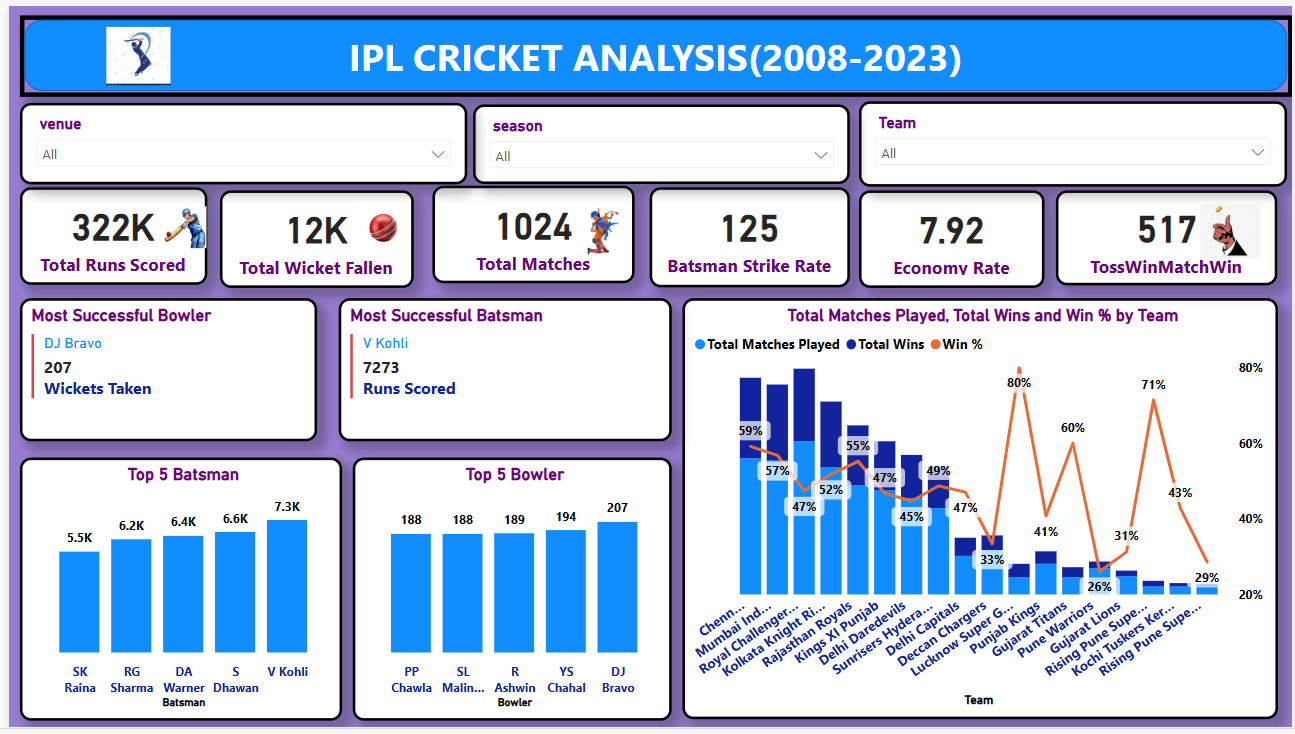

Layout of this report page (visuals, bound fields, positions):
{"tool":"powerbi","page":{"name":"IPL DASHBOARD","canvas":[1280,720],"ordinal":0},"visuals":[{"type":"card","fields":{"Values":["Measure.Total Runs Scored"]},"box":[11,181.1,186.6,97.4],"z":0},{"type":"card","fields":{"Values":["Measure.Total Wicket Fallen"]},"box":[210.3,183.7,193,97.2],"z":1000},{"type":"card","fields":{"Values":["Measure.Total Matches"]},"box":[422.6,179.8,201.7,97.4],"z":2000},{"type":"columnChart","title":"Top 5 Batsman","fields":{"Category":["match_data.striker"],"Y":["Sum(match_data.runs_off_bat)"]},"box":[11,450.1,321.1,262.1],"z":3000},{"type":"columnChart","title":"Top 5 Bowler","fields":{"Category":["match_data.bowler"],"Y":["Measure.Total Wicket Fallen"]},"box":[343.1,450.1,318.4,262.1],"z":4000},{"type":"card","fields":{"Values":["Measure.Strike Rate"]},"box":[638.9,181,199.7,99.8],"z":5000},{"type":"card","fields":{"Values":["Measure.Economy Rate"]},"box":[847.9,183.7,185,97.2],"z":6000},{"type":"lineStackedColumnComboChart","fields":{"Category":["Teams.Team"],"Y":["Measure.Total Matches Played","Measure.Total Wins"],"Y2":["Measure.Win %"]},"box":[671,290.9,594.2,419.9],"z":7000},{"type":"multiRowCard","title":"Most Successful Batsman","fields":{"Values":["match_data.striker","Sum(match_data.runs_off_bat)"]},"box":[329.3,290.9,332.1,142.7],"z":8000},{"type":"multiRowCard","title":"Most Successful Bowler","fields":{"Values":["match_data.bowler","Measure.Total Wicket Fallen"]},"box":[11,290.9,296.4,142.7],"z":9000},{"type":"card","fields":{"Values":["Measure.TossWinMatchWin"]},"box":[1044.3,183.9,220.9,94.7],"z":10000},{"type":"shape","box":[11,9.6,1269.3,81],"z":11000},{"type":"slicer","fields":{"Values":["Teams.Team"]},"box":[848,94.7,426.8,85.1],"z":12000},{"type":"slicer","fields":{"Values":["match_info_data.season"]},"box":[462.4,97.4,376,79.6],"z":13000},{"type":"slicer","fields":{"Values":["match_info_data.venue"]},"box":[11,96.1,446,81],"z":14000},{"type":"image","box":[91.9,9.6,74.1,81],"z":15000},{"type":"image","box":[138.4,194.3,71.9,51.9],"z":16000},{"type":"image","box":[342.1,183.7,61.2,74.5],"z":16001},{"type":"image","box":[543.1,193,95.8,65.2],"z":16002},{"type":"image","box":[1183.4,190.4,70.5,67.9],"z":16003}]}

Visuals, with their boxes in screenshot pixels (x1, y1, x2, y2), scaled from the page's 1280x720 canvas onto the 1295x734 screenshot:
card - Measure.Total Runs Scored: {"x1": 11, "y1": 185, "x2": 200, "y2": 284}
card - Measure.Total Wicket Fallen: {"x1": 213, "y1": 187, "x2": 408, "y2": 286}
card - Measure.Total Matches: {"x1": 428, "y1": 183, "x2": 632, "y2": 283}
"Top 5 Batsman" columnChart: {"x1": 11, "y1": 459, "x2": 336, "y2": 726}
"Top 5 Bowler" columnChart: {"x1": 347, "y1": 459, "x2": 669, "y2": 726}
card - Measure.Strike Rate: {"x1": 646, "y1": 185, "x2": 848, "y2": 286}
card - Measure.Economy Rate: {"x1": 858, "y1": 187, "x2": 1045, "y2": 286}
lineStackedColumnComboChart - Teams.Team x Measure.Total Matches Played: {"x1": 679, "y1": 297, "x2": 1280, "y2": 725}
"Most Successful Batsman" multiRowCard: {"x1": 333, "y1": 297, "x2": 669, "y2": 442}
"Most Successful Bowler" multiRowCard: {"x1": 11, "y1": 297, "x2": 311, "y2": 442}
card - Measure.TossWinMatchWin: {"x1": 1057, "y1": 187, "x2": 1280, "y2": 284}
shape: {"x1": 11, "y1": 10, "x2": 1294, "y2": 92}
slicer - Teams.Team: {"x1": 858, "y1": 97, "x2": 1290, "y2": 183}
slicer - match_info_data.season: {"x1": 468, "y1": 99, "x2": 848, "y2": 180}
slicer - match_info_data.venue: {"x1": 11, "y1": 98, "x2": 462, "y2": 181}
image: {"x1": 93, "y1": 10, "x2": 168, "y2": 92}
image: {"x1": 140, "y1": 198, "x2": 213, "y2": 251}
image: {"x1": 346, "y1": 187, "x2": 408, "y2": 263}
image: {"x1": 549, "y1": 197, "x2": 646, "y2": 263}
image: {"x1": 1197, "y1": 194, "x2": 1269, "y2": 263}
